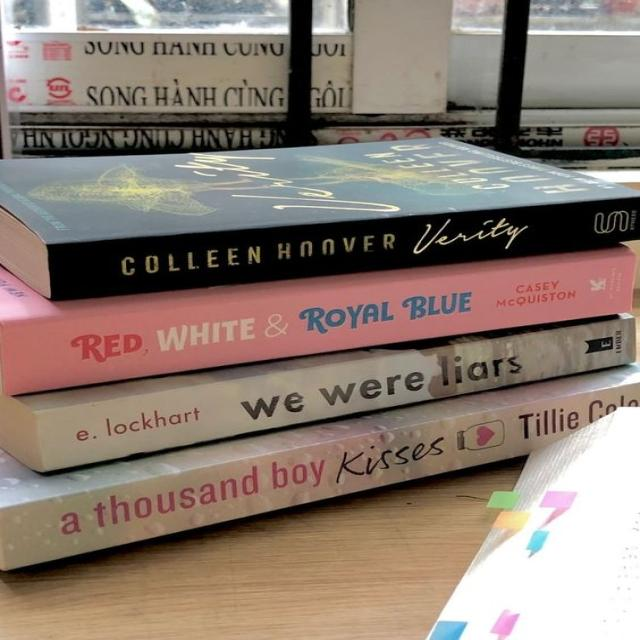book: (0, 365, 639, 570), (0, 245, 634, 395), (0, 321, 632, 471), (46, 191, 640, 303)
